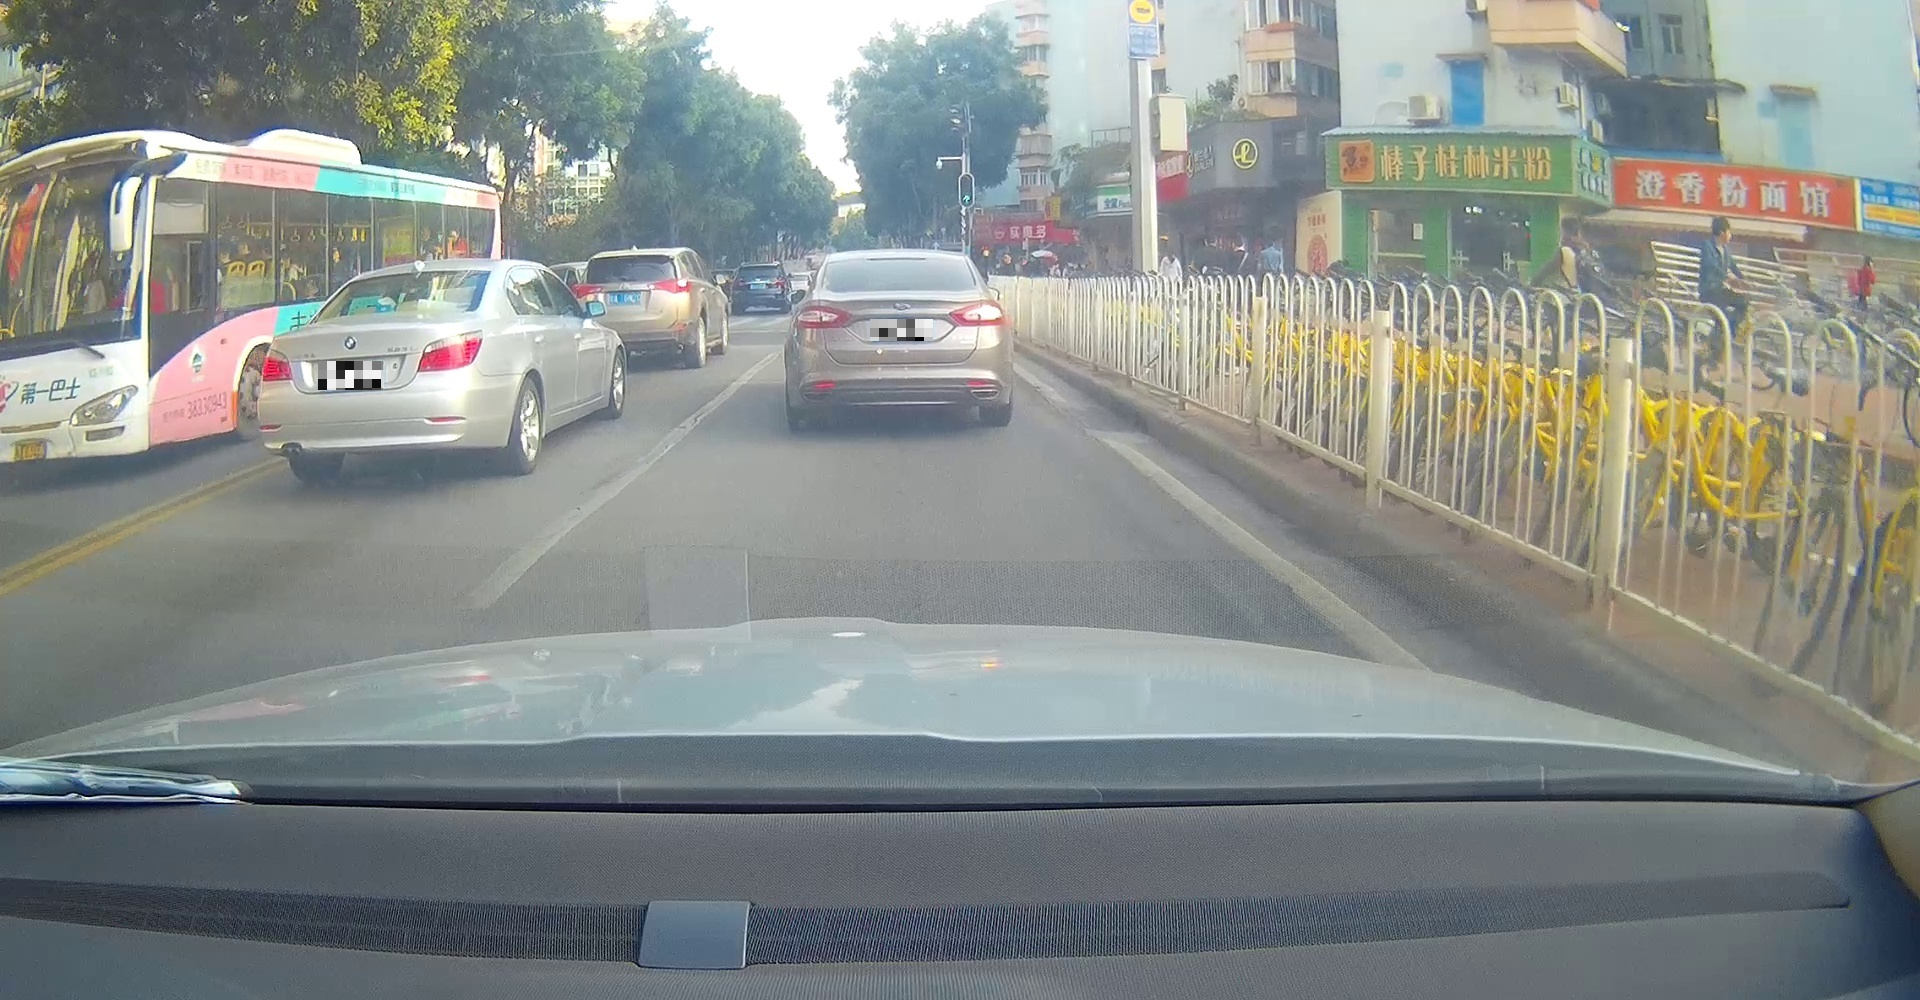L_light: (792, 305, 853, 330), (260, 345, 293, 381), (571, 284, 603, 299)
R_light: (417, 329, 485, 372), (949, 299, 1004, 326), (646, 278, 690, 293)
T_light: (867, 258, 927, 261), (400, 272, 428, 279), (618, 256, 640, 261)
day-no: (255, 258, 502, 480), (783, 247, 1015, 426), (570, 247, 696, 367)
plate_1: (317, 360, 383, 390)
plate_2: (870, 319, 933, 341)
